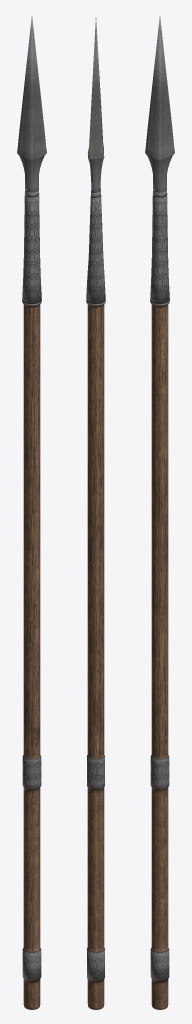
Rendered from SM_Spear_01.fbx.
3 views of the same model, side by side, from view 1: azimuth 90°, elevation 25°; view 2: azimuth 150°, elevation 25°; view 3: azimuth 270°, elevation 25° (orthographic).
Parts seen in each view (by area): view 1: SM_Spear_01_LOD0; view 2: SM_Spear_01_LOD0; view 3: SM_Spear_01_LOD0.
Boxes of the visible parts, x1=… form: SM_Spear_01_LOD0: x1=17, y1=16, x2=46, y2=1009; SM_Spear_01_LOD0: x1=86, y1=17, x2=105, y2=1009; SM_Spear_01_LOD0: x1=145, y1=16, x2=174, y2=1009.
Size of the model in its own units: 3.49 by 5.28 by 192.
1 material, 1 textured.
